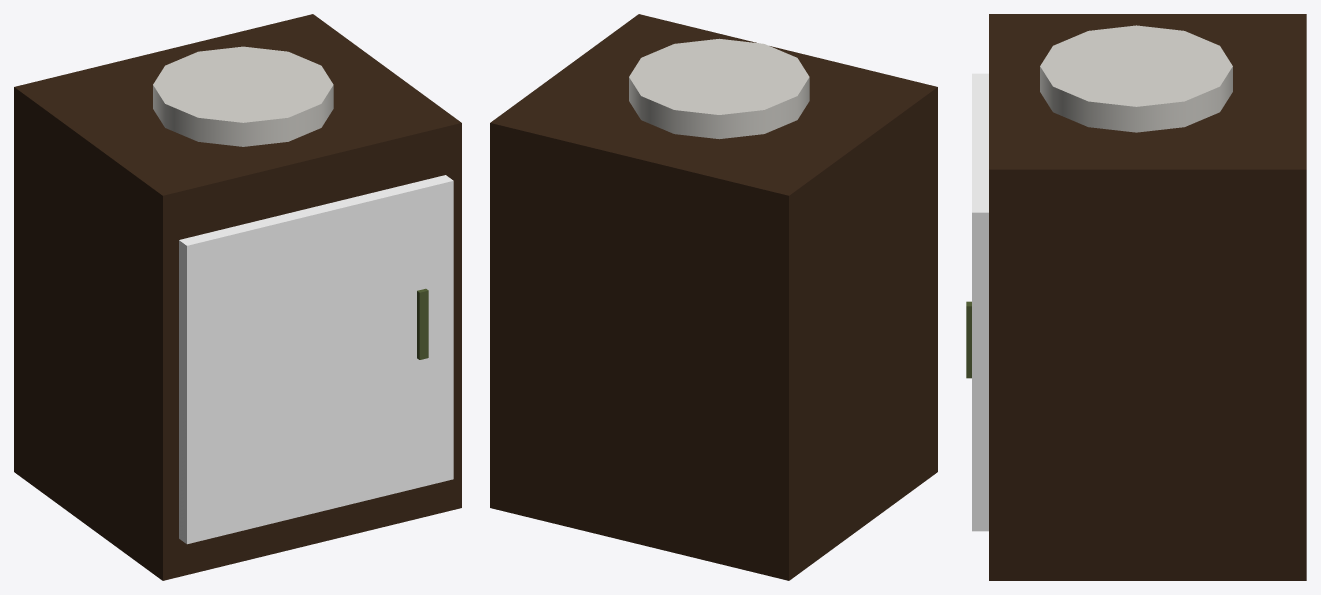
File: laundrycabinet-lite.glb
3 views of the same model, side by side, from view 1: azimuth 30°, elevation 25°; view 2: azimuth 150°, elevation 25°; view 3: azimuth 270°, elevation 25° (orthographic). The views are drawn at different scales.
Parts seen in each view (by area): view 1: material-0-body, material-1-door, material-3-top, material-2-metal; view 2: material-0-body, material-3-top; view 3: material-0-body, material-3-top, material-1-door, material-2-metal.
Boxes of the visible parts, box(x1,y1,x2,y2) form: material-0-body: box(14, 14, 461, 580); material-1-door: box(179, 175, 453, 544); material-3-top: box(153, 46, 333, 146); material-2-metal: box(417, 288, 428, 359); material-0-body: box(490, 14, 937, 580); material-3-top: box(629, 38, 809, 139); material-0-body: box(989, 14, 1306, 580); material-3-top: box(1040, 25, 1232, 132); material-1-door: box(972, 73, 988, 531); material-2-metal: box(966, 301, 971, 378).
Size of the model in its own units: 0.65 by 0.85 by 0.6.
